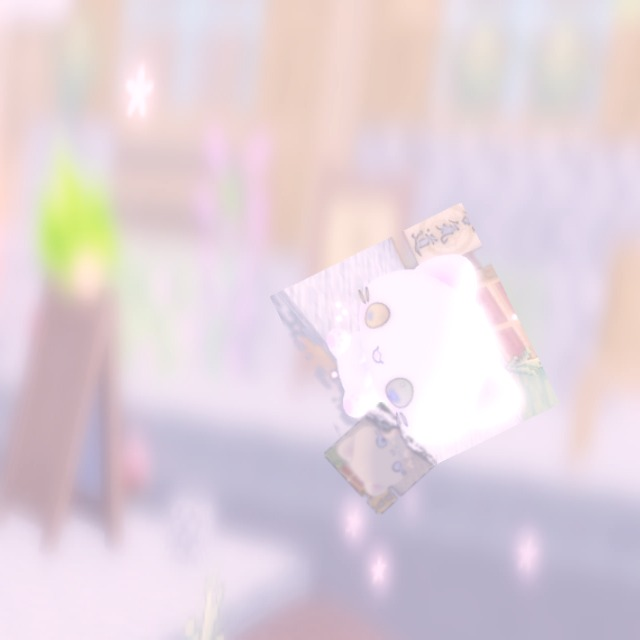urso_branco: (269, 202, 561, 498), (324, 402, 437, 515)
